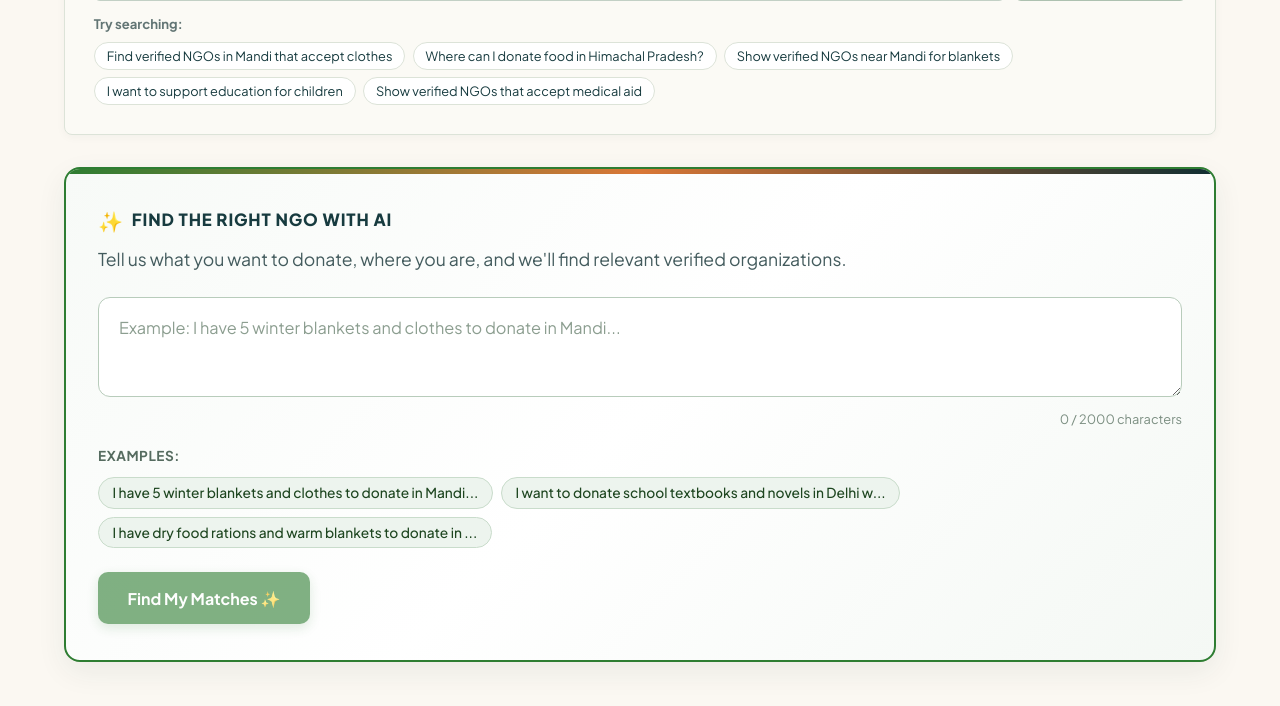
it: Feature 2: AI Recommendations on /ngos Page › handles no-match response with friendly guidance
(page scrolled)
Step 1. Replace the text in the text box with placeholder "Example: I have 5 winter blankets and clothes to donate in Mandi..." with "I have old servers to donate in Timbuktu." → (640, 347), box x1=98 y1=297 x2=1182 y2=397
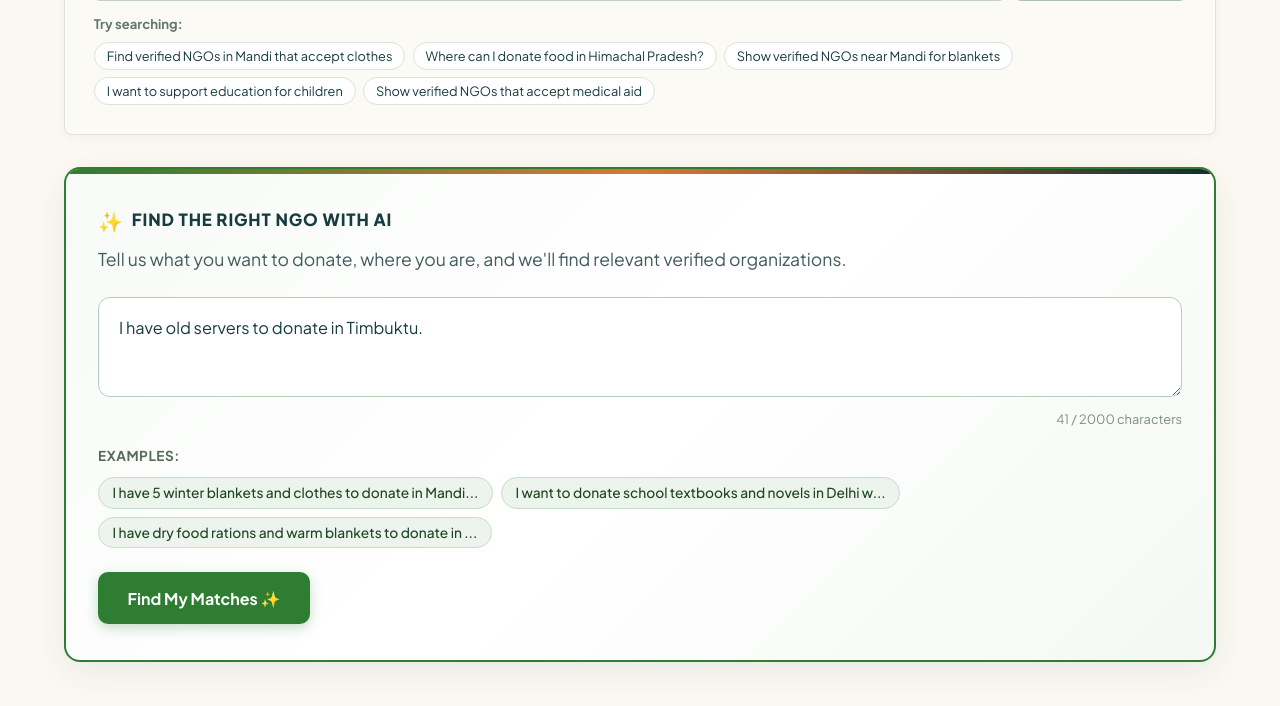
Step 2. Click the button "Find My Matches ✨" → (204, 598), box x1=98 y1=572 x2=310 y2=624
(page scrolled)
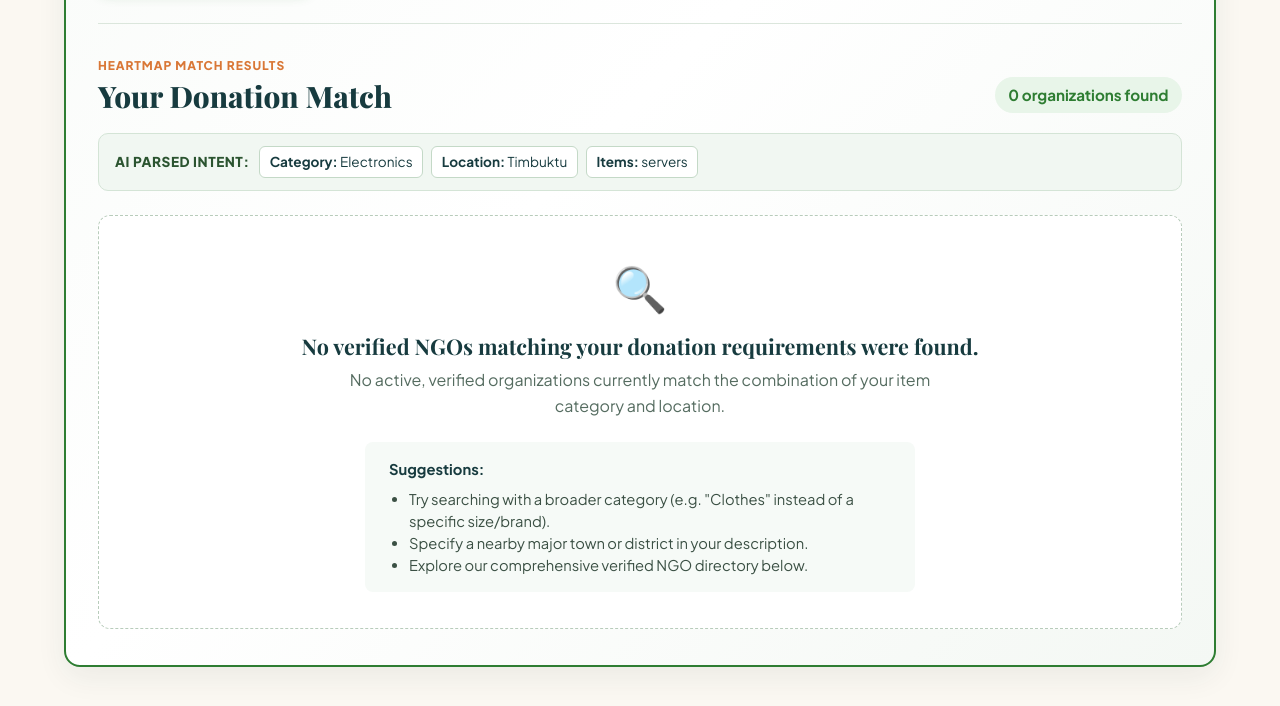
Check: the heading "No verified NGOs matching your donation requirements were found." is shown, box x1=302 y1=332 x2=978 y2=360
